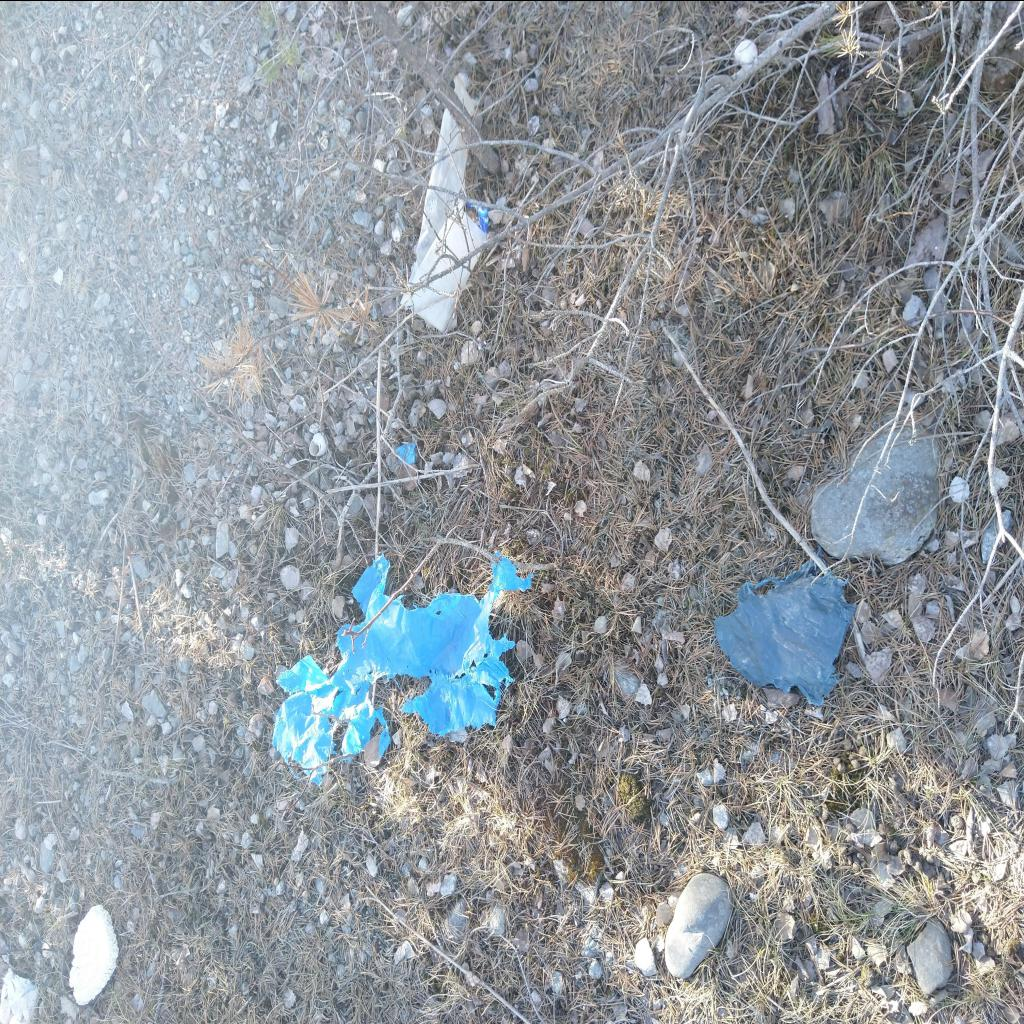Plastic film: (273, 551, 531, 786), (714, 557, 856, 705), (402, 106, 490, 332), (454, 74, 476, 114), (466, 202, 488, 231), (396, 441, 416, 462)
Styrofoam piece: (69, 903, 119, 1004)
